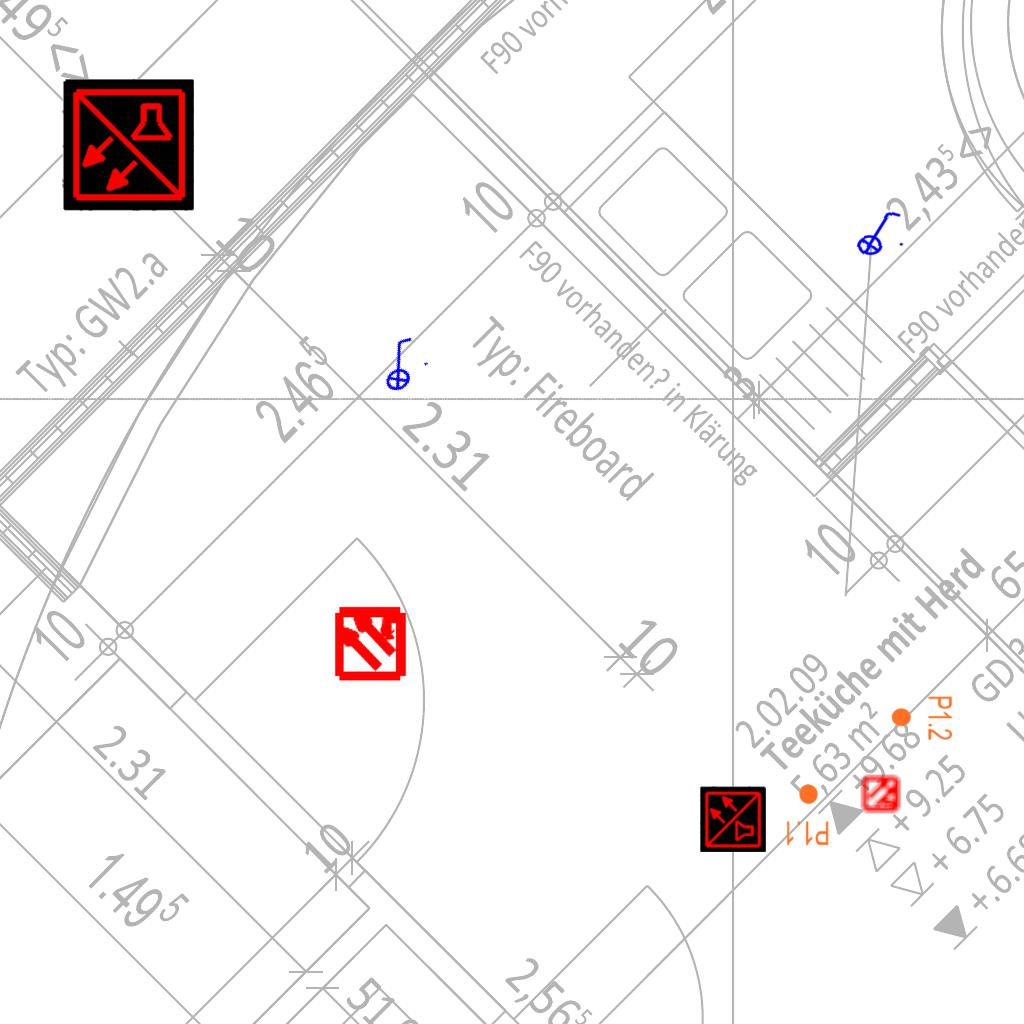Ausschalter_beleuchtet: (362, 329, 436, 399), (849, 207, 907, 257)
Downlight_LED_Einbauleuchten_Flur: (890, 695, 954, 741)
Downlight_LED_Einbauleuchten_Flur_2: (784, 783, 830, 847)
OKW_Multisensormelder_(Kombination_optischer_Rauch-Kahlenmonoxid_Waerme-Melder): (62, 79, 194, 211), (700, 786, 766, 852)
OT_Multisensormelder_(Kombination_RMO_WMD): (314, 585, 427, 698), (854, 766, 910, 822)
